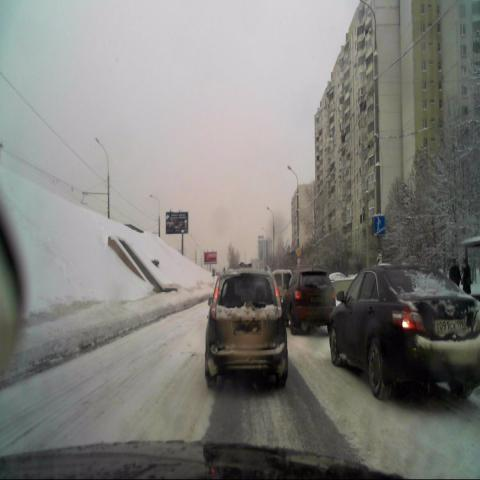6_6: (374, 214, 384, 236)
